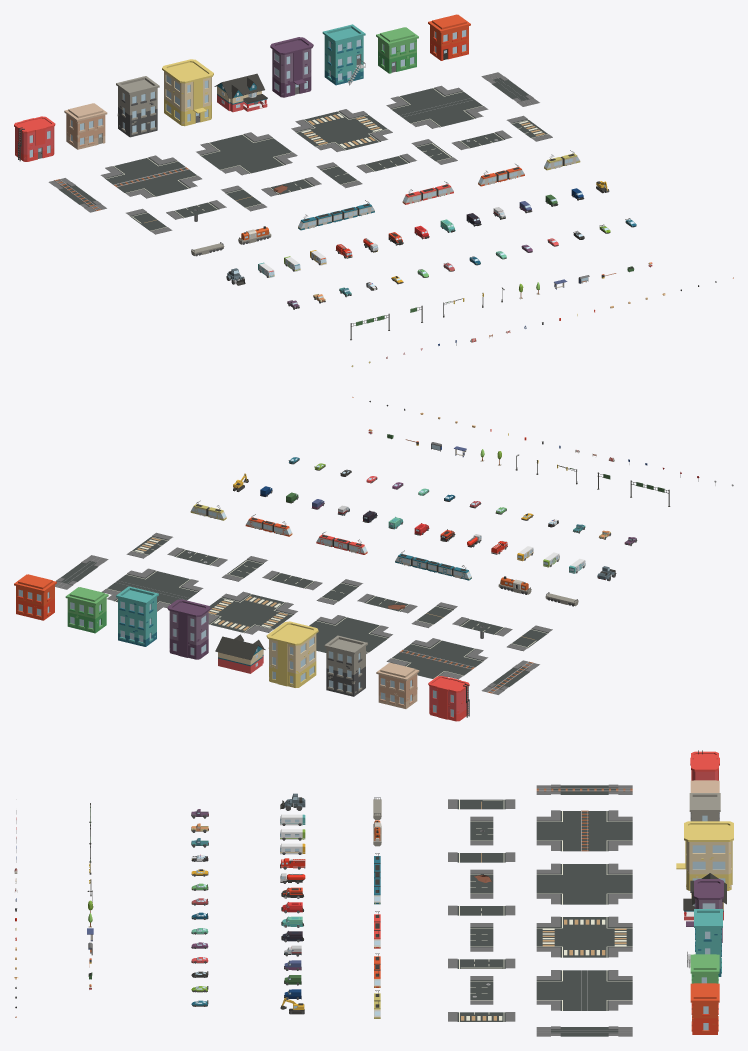
3 views of the same model, one above another, from view 1: azimuth 30°, elevation 25°; view 2: azimuth 150°, elevation 25°; view 3: azimuth 270°, elevation 25° (orthographic). The views are drawn at different scales.
Parts seen in each view (by area): view 1: Building_8, Road_Crossroads_3, Road_Crossroads_2, Road_Crossroads_4, Road_Crossroads_1, Building_7, Building_2, Building_3, Building_9, Building_5, Building_4, Building_6 (+4 smaller); view 2: Building_8, Road_Crossroads_1, Road_Crossroads_3, Building_7, Building_2, Building_3, Road_Crossroads_4, Road_Crossroads_2, Building_9, Building_6, Building_5, Building_4 (+12 smaller); view 3: Road_Crossroads_2, Road_Crossroads_3, Road_Crossroads_1, Road_Crossroads_4, Building_8, Building_4, Building_3, Road_Railroad_1, Road_Railroad_2, Building_7, Building_2, Building_6 (+11 smaller).
Boxes of the visible parts, x1,y1,x2,y2 form: Building_8: [162, 59, 213, 126]; Road_Crossroads_3: [100, 155, 201, 198]; Road_Crossroads_2: [196, 132, 297, 175]; Road_Crossroads_4: [386, 85, 488, 128]; Road_Crossroads_1: [291, 109, 392, 151]; Building_7: [270, 37, 313, 97]; Building_2: [116, 76, 159, 137]; Building_3: [322, 24, 365, 85]; Building_9: [14, 116, 55, 161]; Building_5: [64, 103, 107, 149]; Building_4: [428, 14, 470, 60]; Building_6: [376, 27, 418, 73]; Building_8: [266, 621, 318, 687]; Road_Crossroads_1: [208, 591, 297, 634]; Road_Crossroads_3: [386, 638, 487, 679]; Building_7: [167, 599, 210, 659]; Building_2: [324, 635, 367, 696]; Building_3: [116, 586, 158, 646]; Road_Crossroads_4: [102, 568, 203, 611]; Road_Crossroads_2: [309, 615, 392, 653]; Building_9: [428, 676, 469, 721]; Building_6: [65, 587, 108, 633]; Building_5: [376, 662, 419, 708]; Building_4: [14, 574, 56, 620]; Road_Crossroads_2: [536, 863, 632, 904]; Road_Crossroads_3: [536, 810, 632, 851]; Road_Crossroads_1: [536, 916, 632, 957]; Road_Crossroads_4: [536, 970, 632, 1010]; Building_8: [676, 821, 733, 890]; Building_4: [690, 983, 719, 1034]; Building_3: [687, 909, 722, 976]; Road_Railroad_1: [536, 784, 632, 794]; Road_Railroad_2: [536, 1026, 632, 1036]; Building_7: [686, 879, 723, 942]; Building_2: [689, 793, 720, 821]; Building_6: [690, 954, 719, 983].
Bounding box in the file's own units: 2.6 × 0.3085 × 3.15.
Materials: 1 (1 with a texture image).
